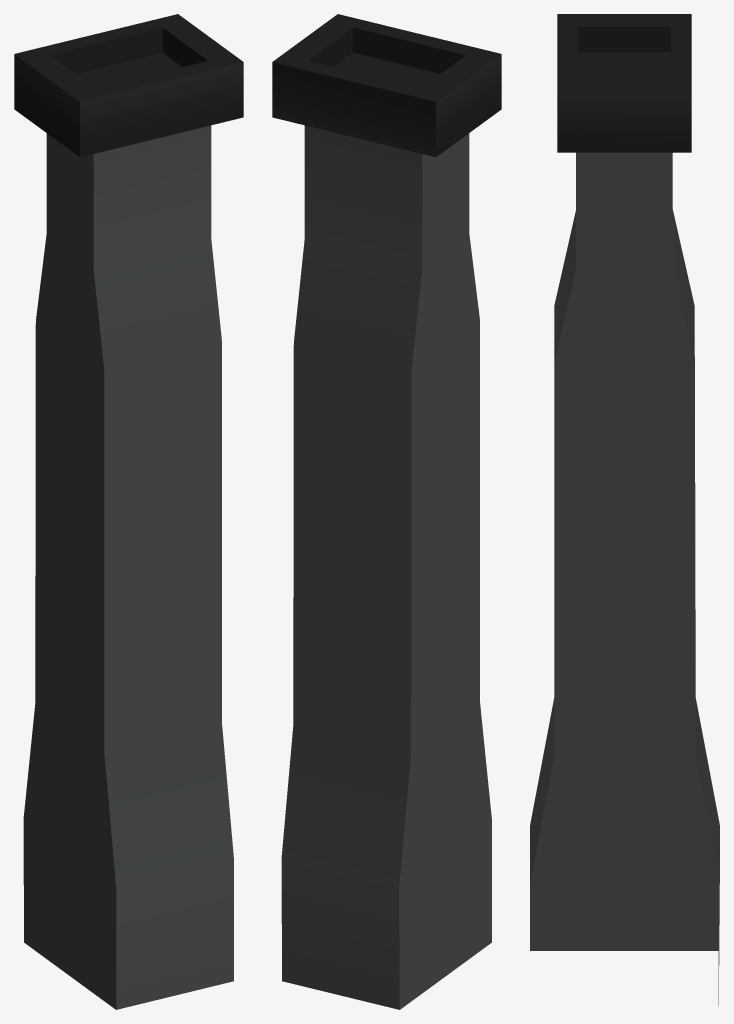
The model's file is fanasty_mod_sml_chimney03.fbx.
3 renders of one model, left to right at view 1: azimuth 30°, elevation 25°; view 2: azimuth 150°, elevation 25°; view 3: azimuth 270°, elevation 25°, orthographic. The views are drawn at different scales.
Visible parts, largest first — view 1: chimney_03; view 2: chimney_03; view 3: chimney_03.
Boxes of the visible parts, box(x1,y1,x2,y2) form: chimney_03: box(14, 14, 243, 1009); chimney_03: box(272, 14, 501, 1009); chimney_03: box(530, 14, 719, 1005).
Size of the model in its own units: 1.92 by 10.1 by 1.88.
